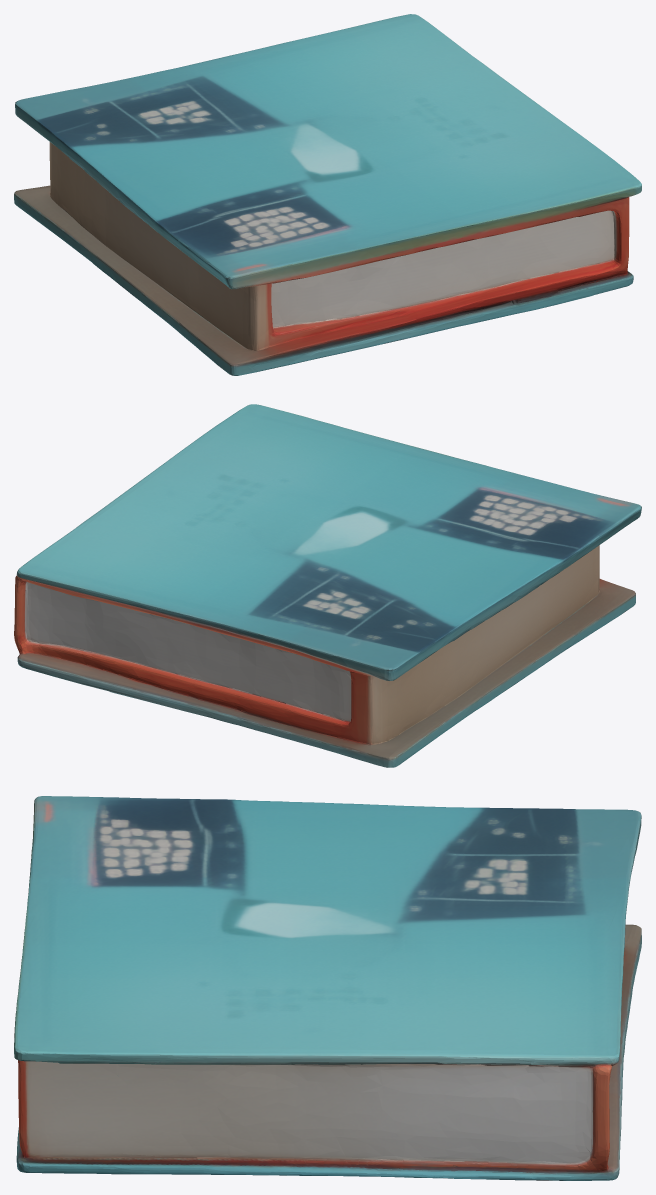
Rendered from riser.glb.
3 views of the same model, one above another, from view 1: azimuth 30°, elevation 25°; view 2: azimuth 150°, elevation 25°; view 3: azimuth 270°, elevation 25° (orthographic). The views are drawn at different scales.
Visible parts, largest first — view 1: world; view 2: world; view 3: world.
Boxes of the visible parts, x1,y1,x2,y2 form: world: (14, 14, 641, 375); world: (14, 404, 641, 767); world: (14, 796, 641, 1180).
Bounding box in the file's own units: 0.9831 × 0.2306 × 0.9922.
1 material, 1 textured.
